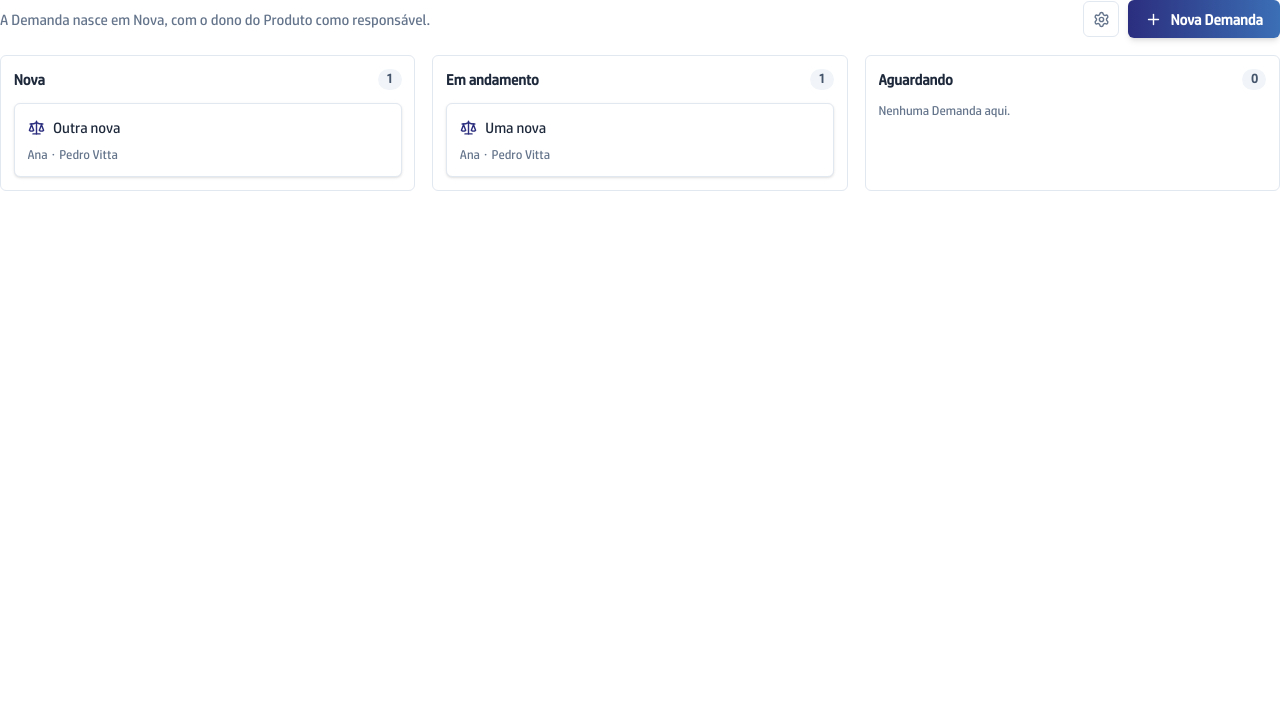
it: Mover, Concluir e Cancelar no card aberto › Concluir usa a rota de mover, e a Demanda some do Quadro na hora
Click the button "Uma nova" at (516, 127), box x1=460 y1=117 x2=820 y2=138
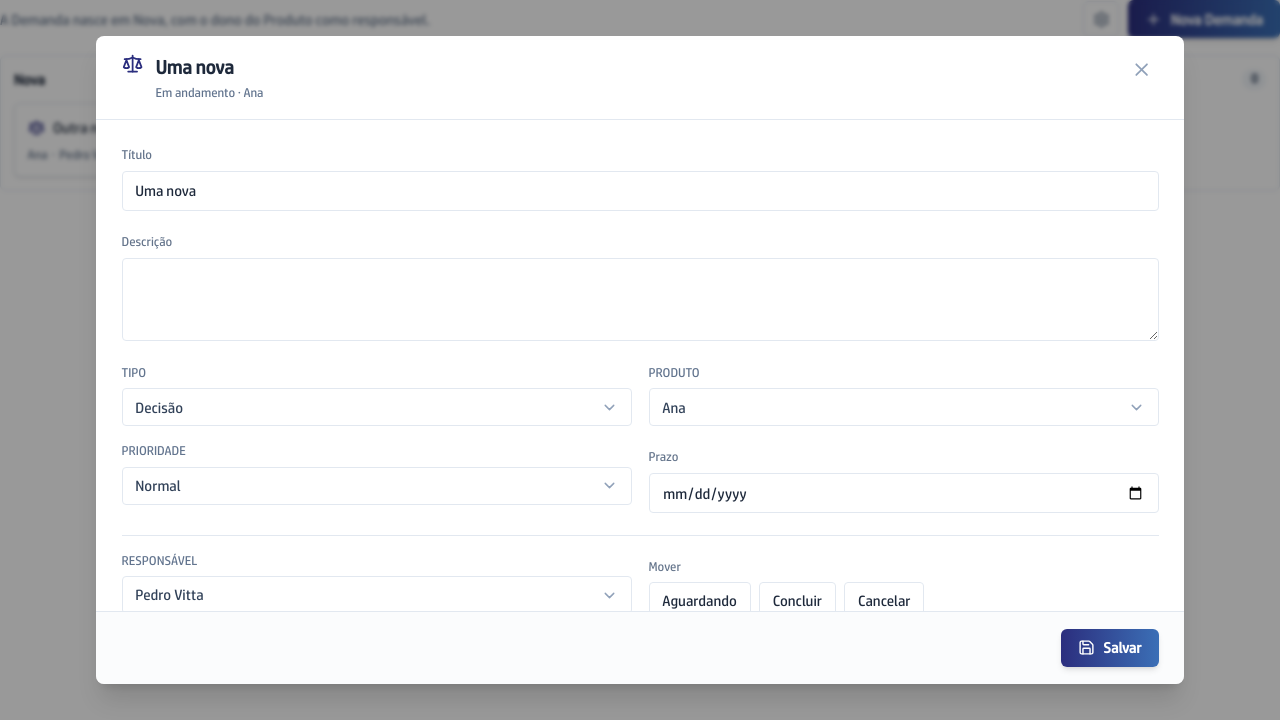
Click the button with aria-label "Concluir a Demanda" at (797, 600), box x1=759 y1=582 x2=836 y2=618
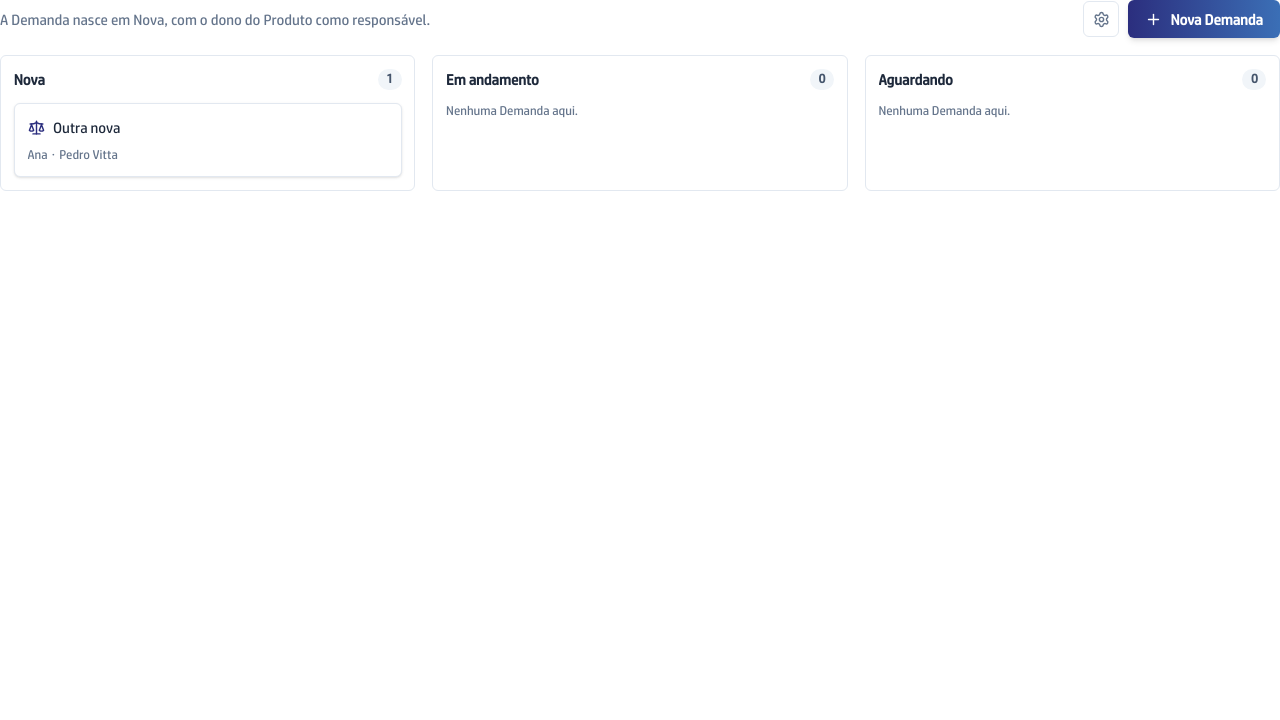
Check: the text "Outra nova" is shown, box x1=53 y1=117 x2=120 y2=138
Check: the dialog is gone
Check: the button "Uma nova" is gone
